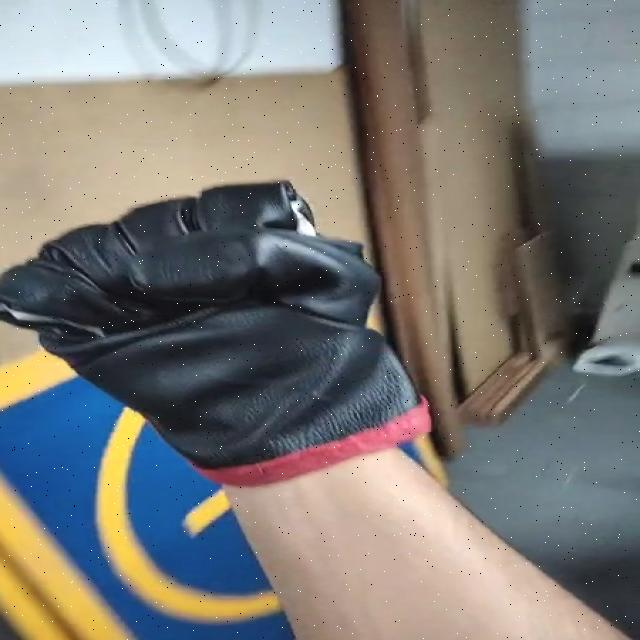Gloves: (0, 178, 437, 487)
